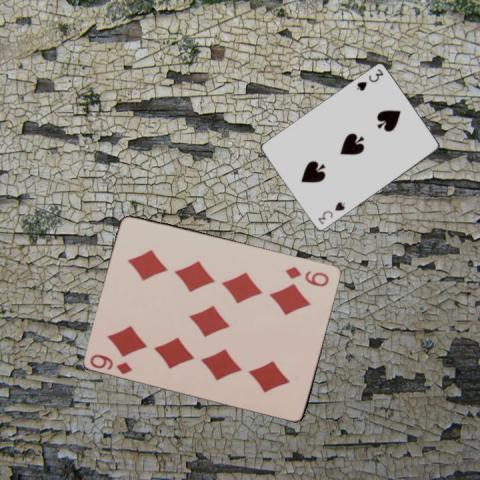3s: (315, 199, 347, 226), (353, 66, 385, 93)
9d: (282, 263, 331, 288), (87, 351, 134, 375)
